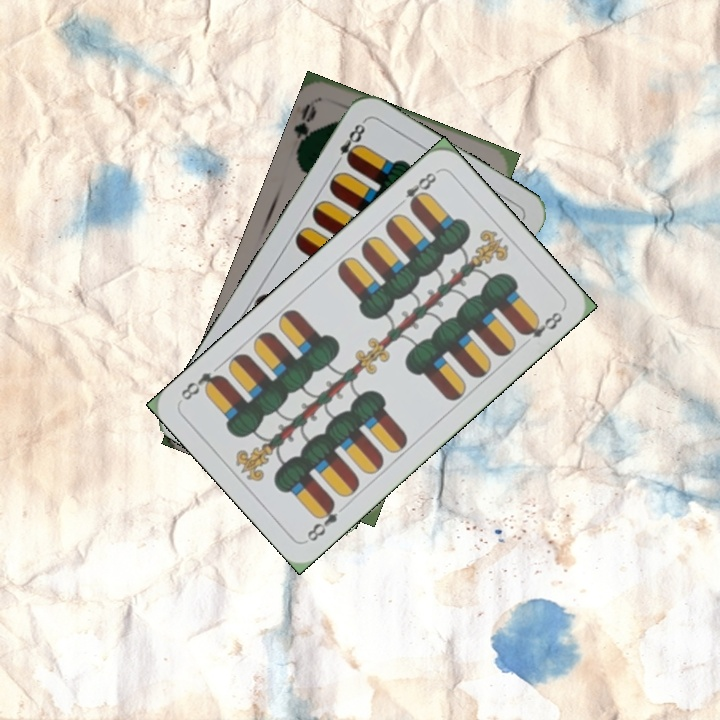E8: (392, 167, 441, 212), (330, 117, 368, 169), (302, 496, 341, 544)
GO: (291, 98, 321, 157)
